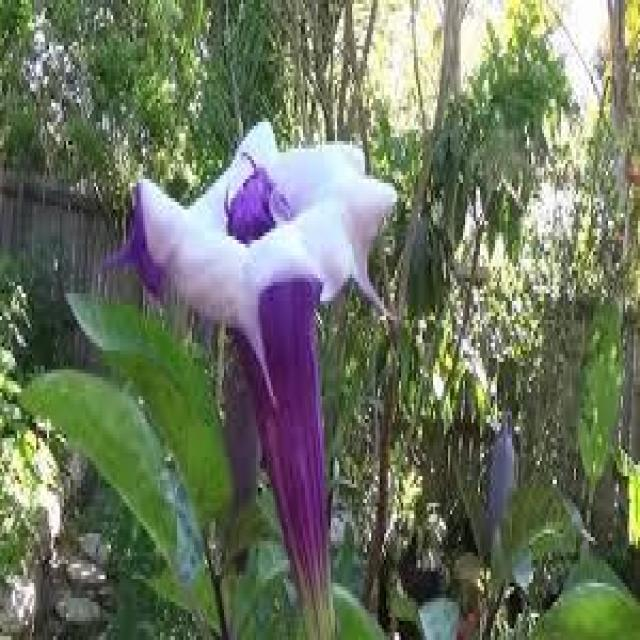organic waste: (124, 128, 403, 612)
